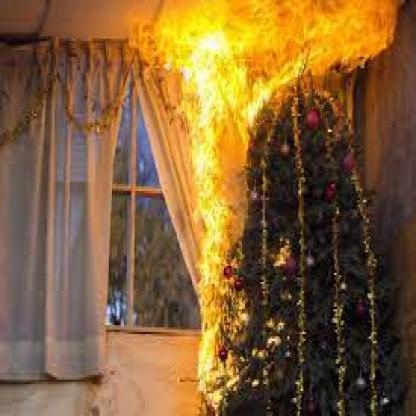fire: (125, 8, 408, 400)
